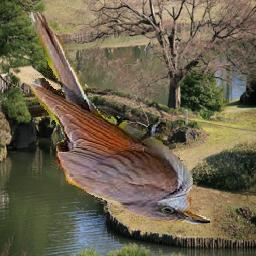Cuckoo: (30, 10, 213, 224)
